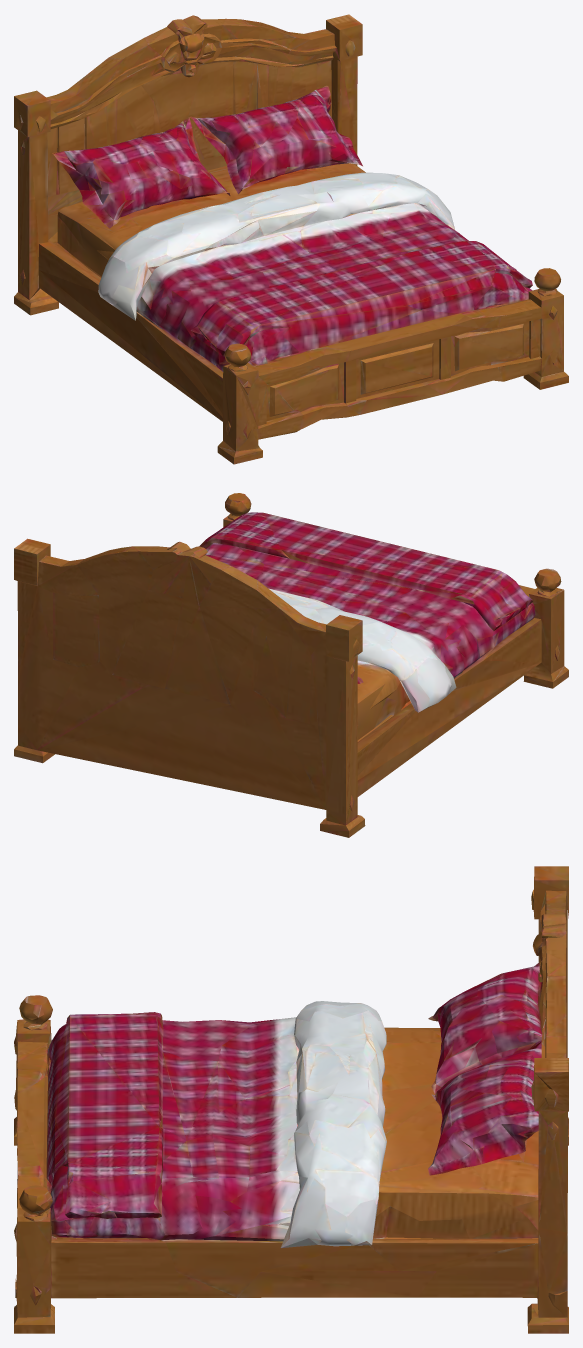
File: double_bed.glb
3 renders of one model, top to bottom at view 1: azimuth 30°, elevation 25°; view 2: azimuth 150°, elevation 25°; view 3: azimuth 270°, elevation 25°, orthographic. The views are drawn at different scales.
Bounding box in the file's own units: 1.71 × 1.17 × 1.9.
Materials: 1 (1 with a texture image).
